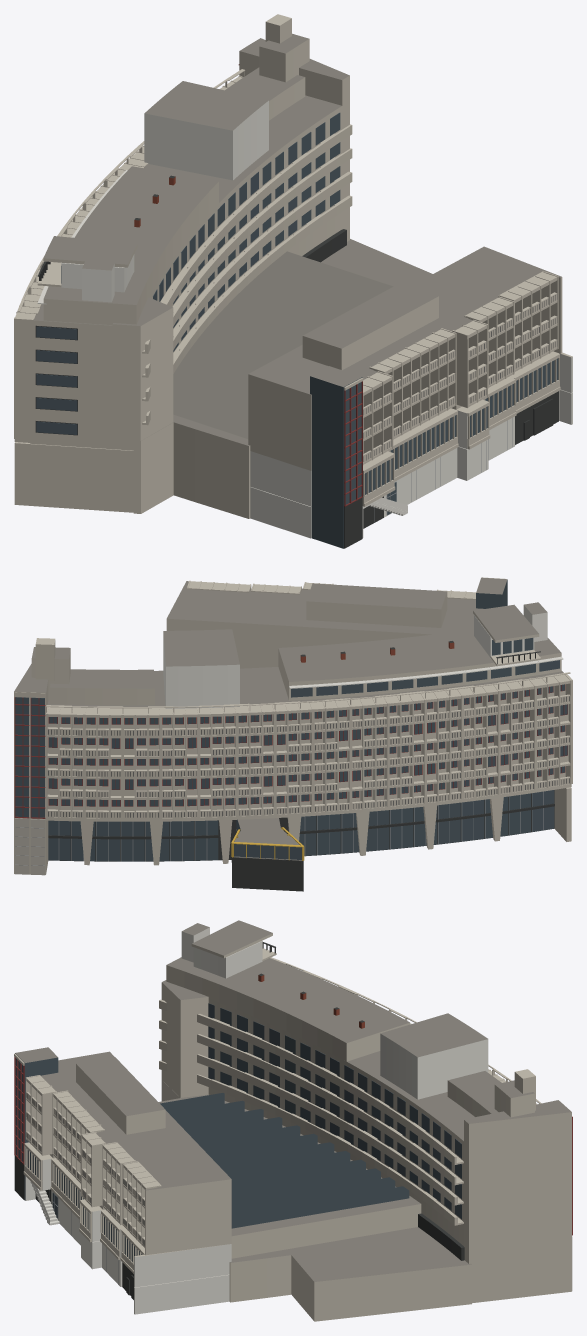
The model's file is autopon.glb.
The picture shows the model from 3 angles, top to bottom: view 1: azimuth 30°, elevation 25°; view 2: azimuth 150°, elevation 25°; view 3: azimuth 270°, elevation 25°; orthographic projection. The views are drawn at different scales.
Visible parts, largest first — view 1: autopon; view 2: autopon; view 3: autopon.
Part boxes in pixels (x1=…): autopon: x1=14, y1=14, x2=572, y2=548; autopon: x1=14, y1=577, x2=572, y2=891; autopon: x1=14, y1=920, x2=572, y2=1321.
Bounding box in the file's own units: 70.01 × 32.4 × 76.73.
